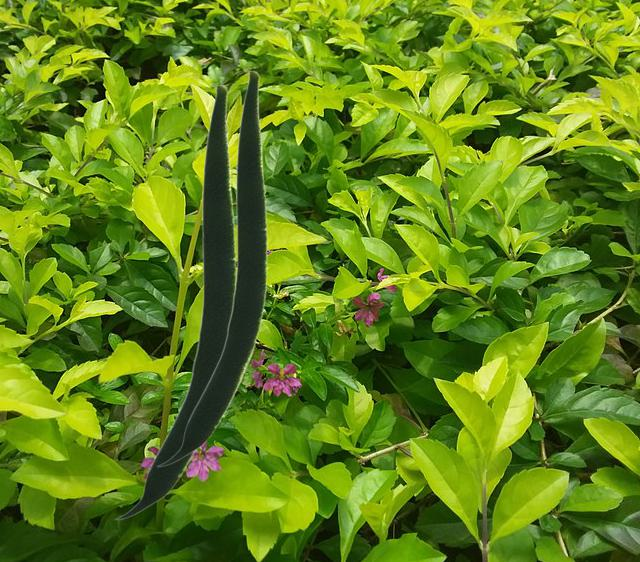french_bean: (114, 83, 235, 519), (156, 69, 266, 466)
